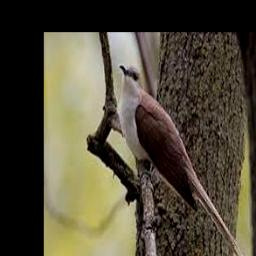Cuckoo: (119, 64, 247, 256)
